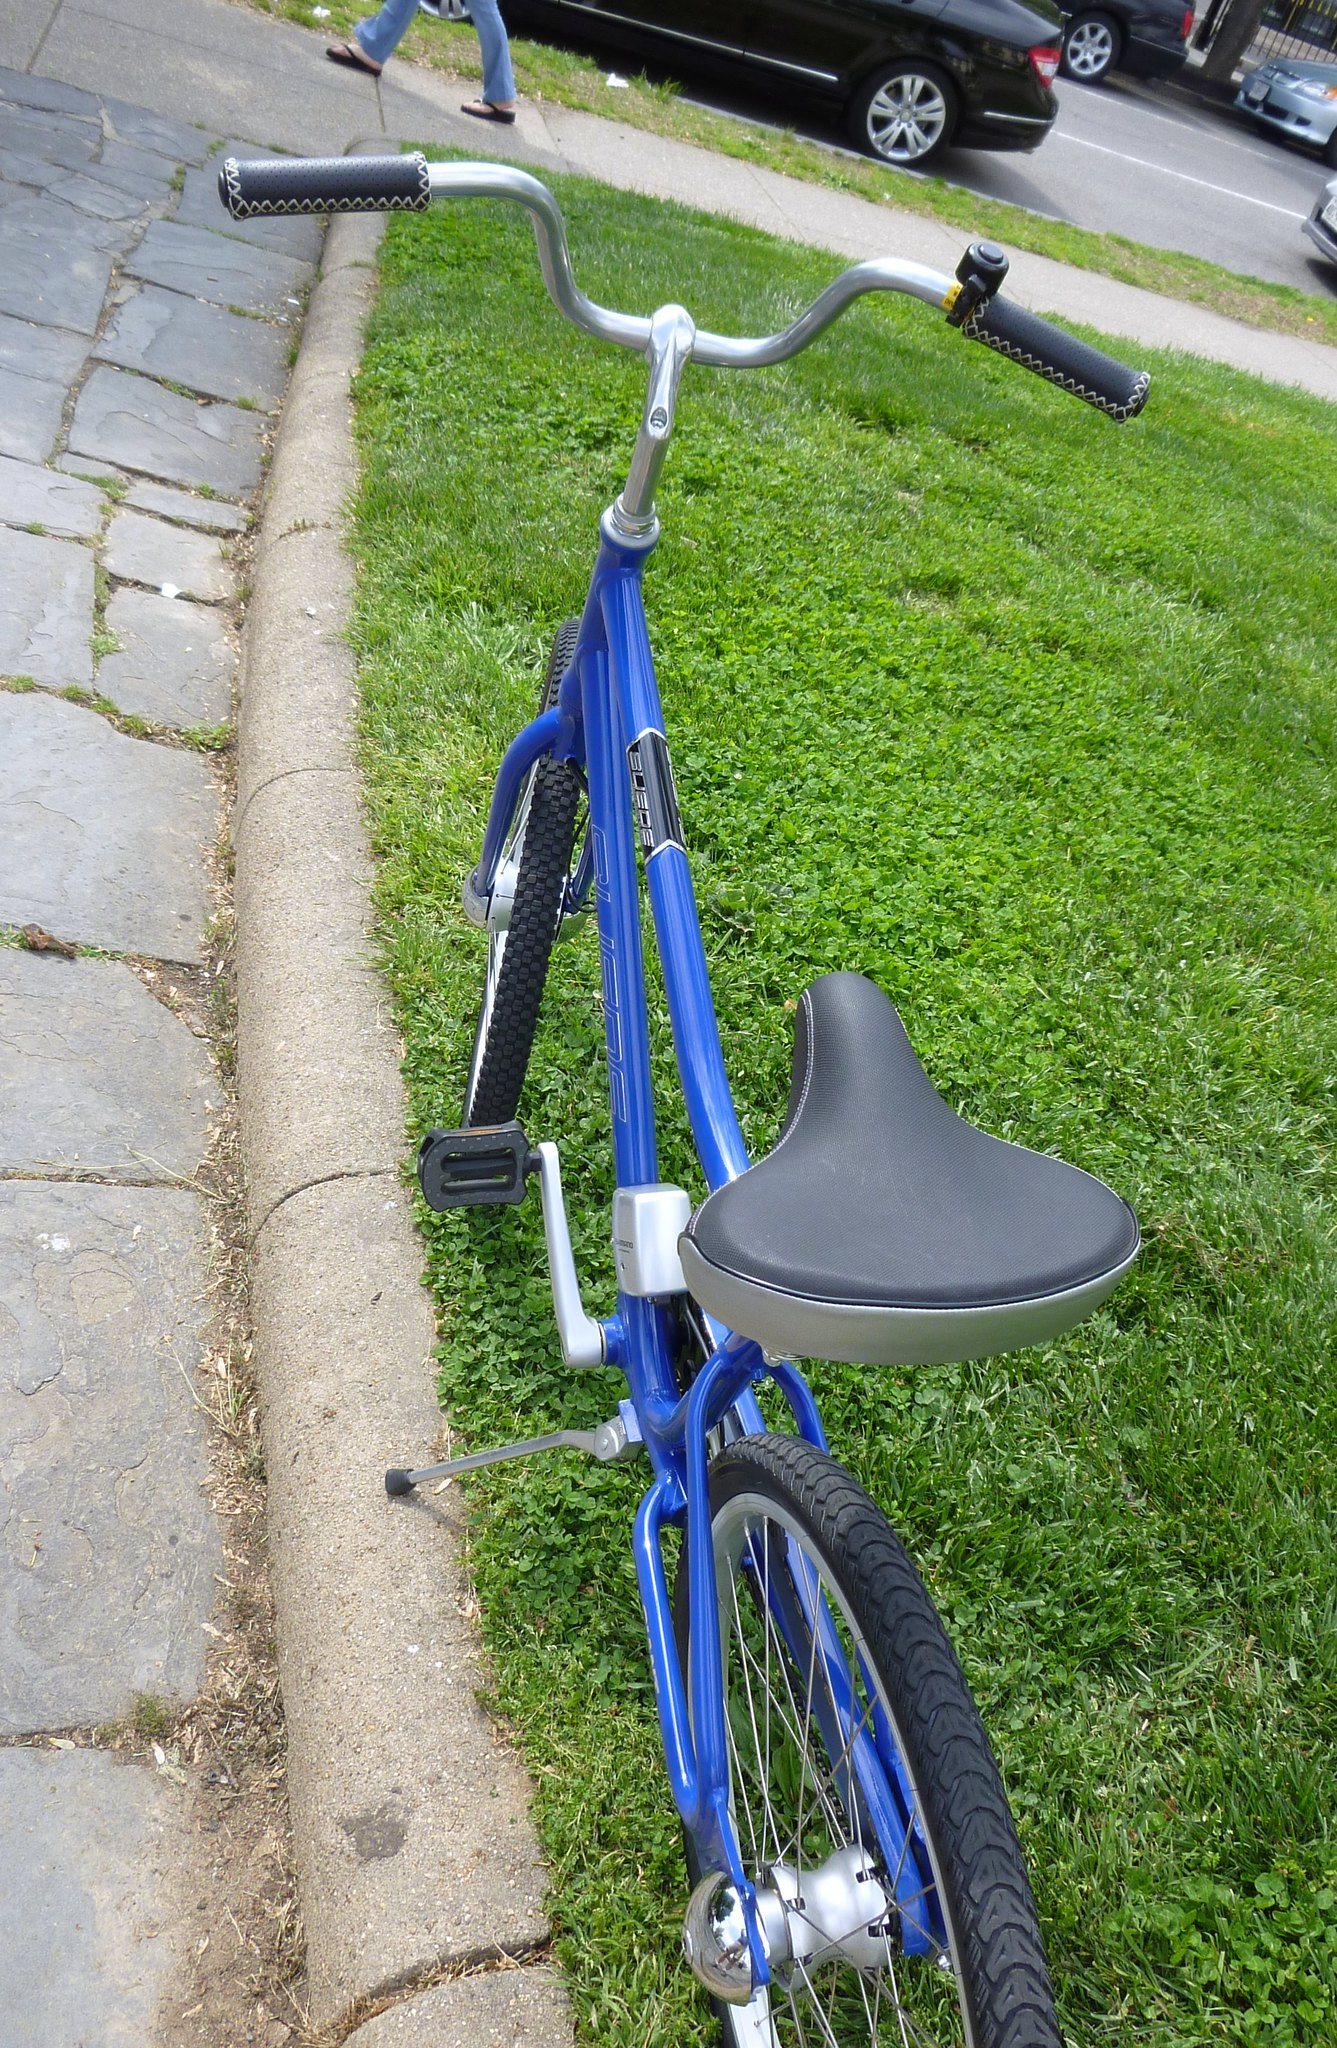bicycle: (192, 140, 1315, 2048)
